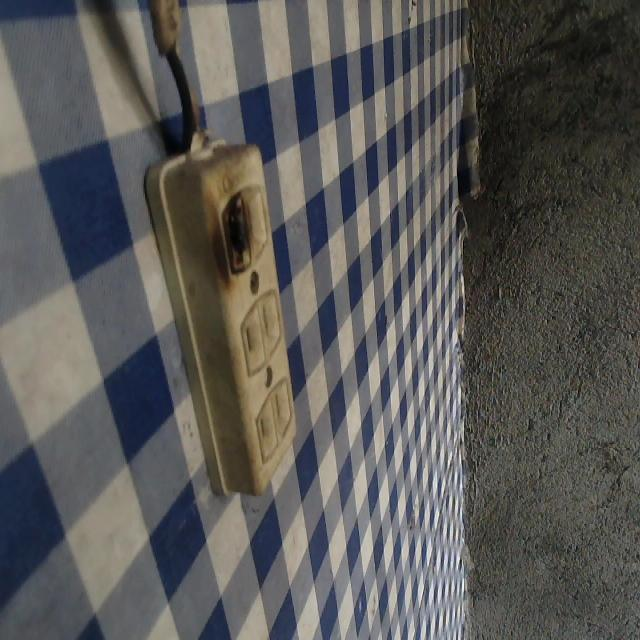-: (207, 188, 260, 275)
